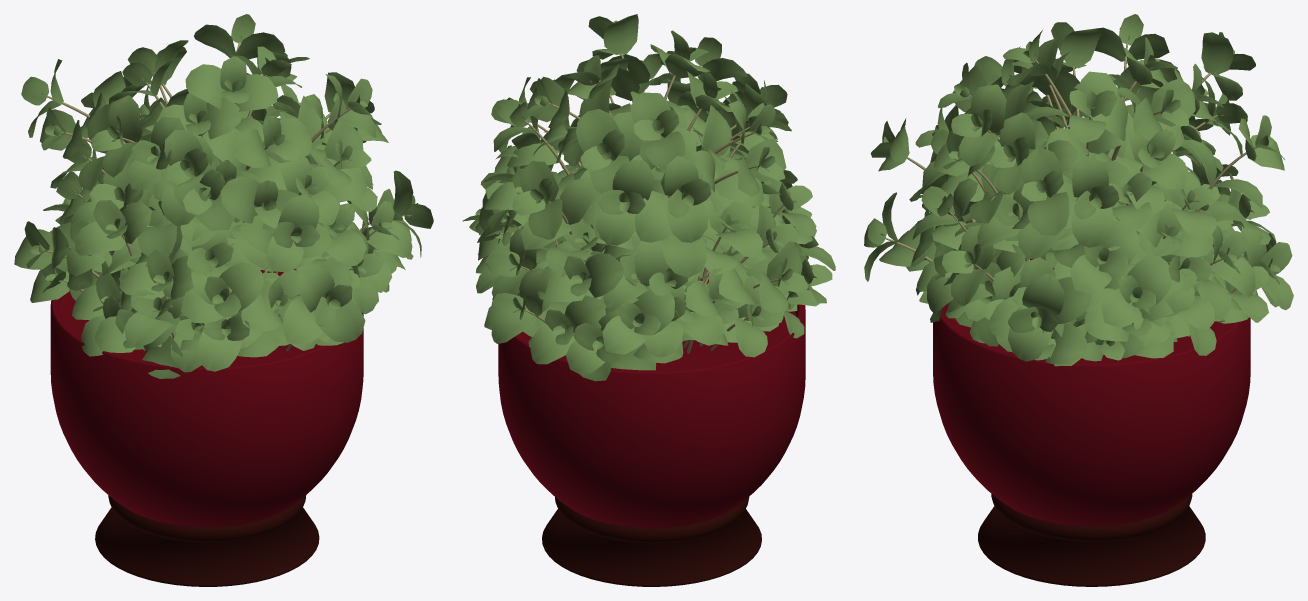
The picture shows the model from 3 angles, left to right: view 1: azimuth 30°, elevation 25°; view 2: azimuth 150°, elevation 25°; view 3: azimuth 270°, elevation 25°; orthographic projection. The views are drawn at different scales.
Parts seen in each view (by area): view 1: C-25 Mint 1, G-Object, G-Object.001; view 2: C-25 Mint 1, G-Object, G-Object.001; view 3: C-25 Mint 1, G-Object, G-Object.001.
Part boxes in pixels (x1,y1,x2,y2): C-25 Mint 1: [14, 14, 433, 378]; G-Object: [50, 269, 363, 526]; G-Object.001: [95, 495, 319, 586]; C-25 Mint 1: [462, 14, 835, 381]; G-Object: [498, 278, 805, 528]; G-Object.001: [542, 497, 761, 586]; C-25 Mint 1: [864, 14, 1293, 366]; G-Object: [933, 258, 1250, 525]; G-Object.001: [978, 494, 1205, 586].
Size of the model in its own units: 16.69 by 22.22 by 16.98.
